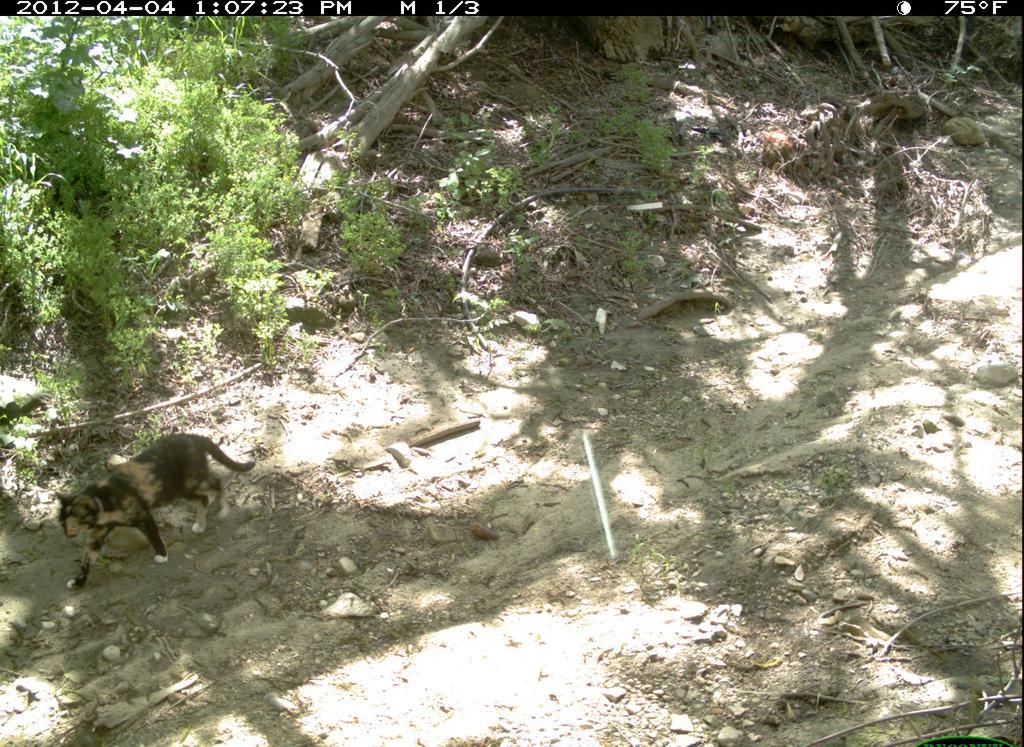cat: (58, 423, 260, 602)
